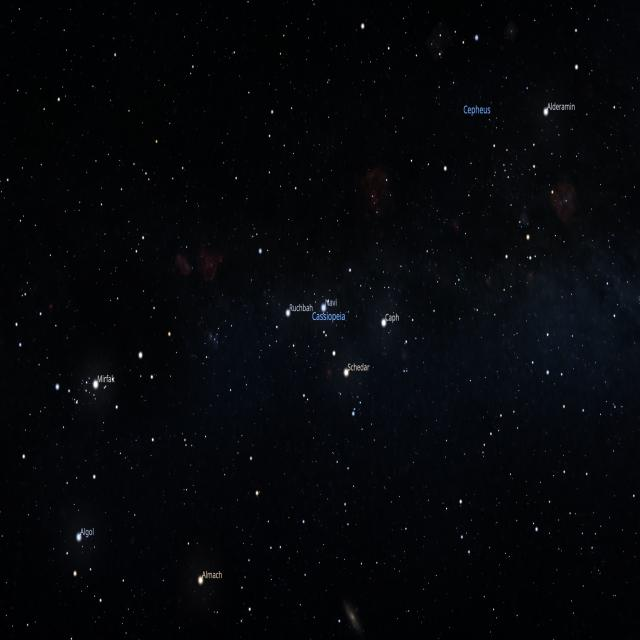Cassiopeia: (255, 242, 401, 384)
